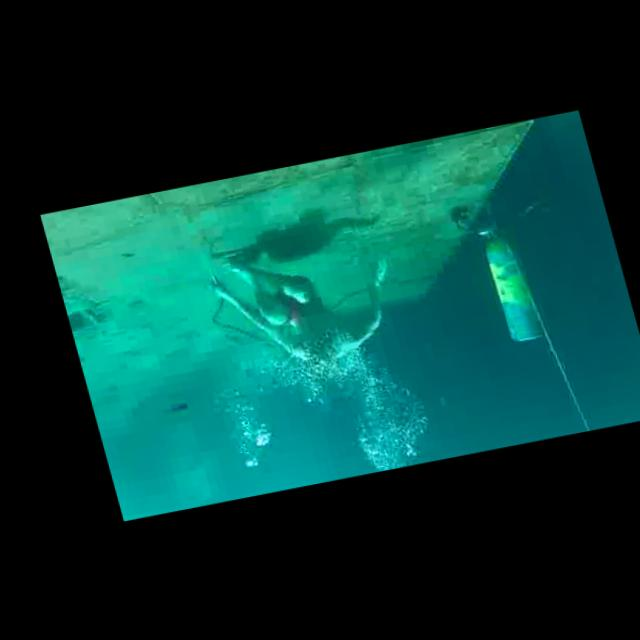human: (184, 212, 418, 392)
